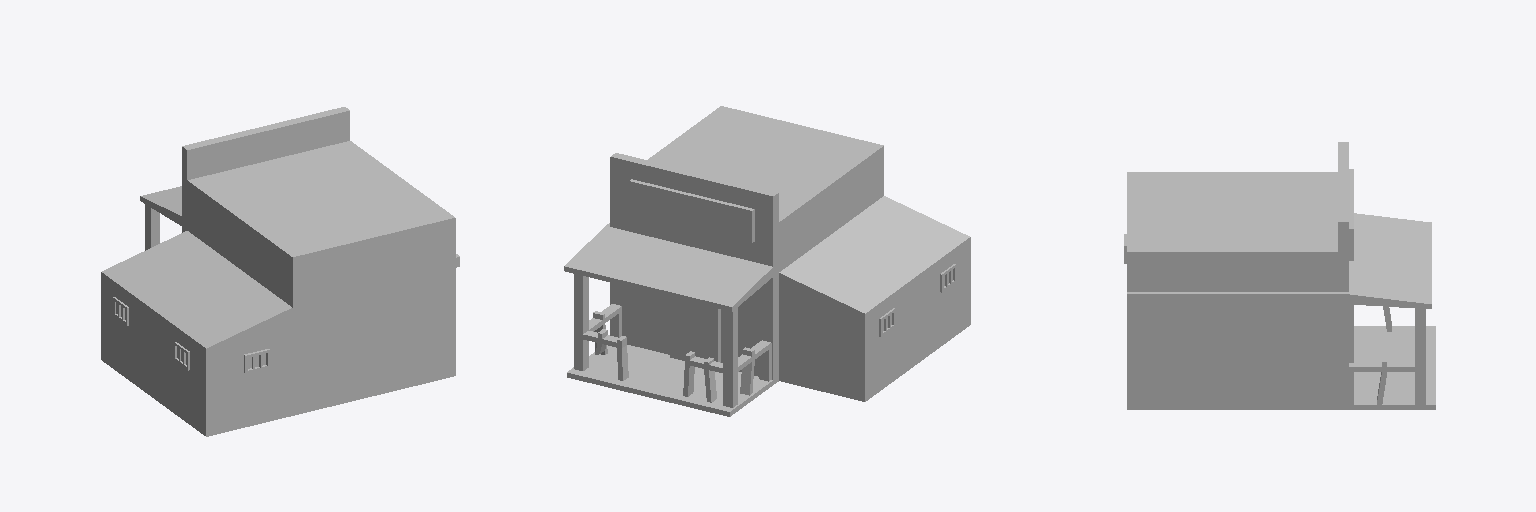
File: sheriff2.obj
The picture shows the model from 3 angles: view 1: azimuth 30°, elevation 25°; view 2: azimuth 150°, elevation 25°; view 3: azimuth 270°, elevation 25°; orthographic projection.
Visible parts, largest first — view 1: building, railing_2; view 2: building, top_sign, railing_2, railing_1, front door; view 3: building, railing_1.
Boxes of the visible parts, <box> form: building: <box>101,107,459,436</box>; railing_2: <box>145,204,159,250</box>; building: <box>564,106,970,416</box>; top_sign: <box>629,179,754,242</box>; railing_2: <box>683,307,771,407</box>; railing_1: <box>574,274,628,380</box>; front door: <box>670,297,720,362</box>; building: <box>1127,142,1435,409</box>; railing_1: <box>1349,308,1425,404</box>.
Bounding box in the file's own units: 1.67 × 1.18 × 1.76.